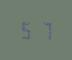five: (19, 19, 34, 39)
seven: (35, 19, 50, 40)
